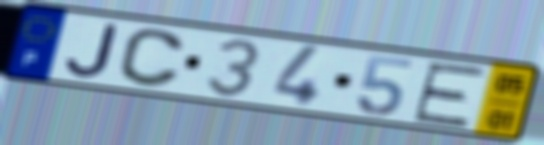3: (200, 37, 265, 99)
4: (269, 41, 326, 112)
5: (354, 52, 415, 118)
C: (115, 27, 189, 90)
E: (409, 60, 490, 130)
J: (63, 22, 121, 80)
